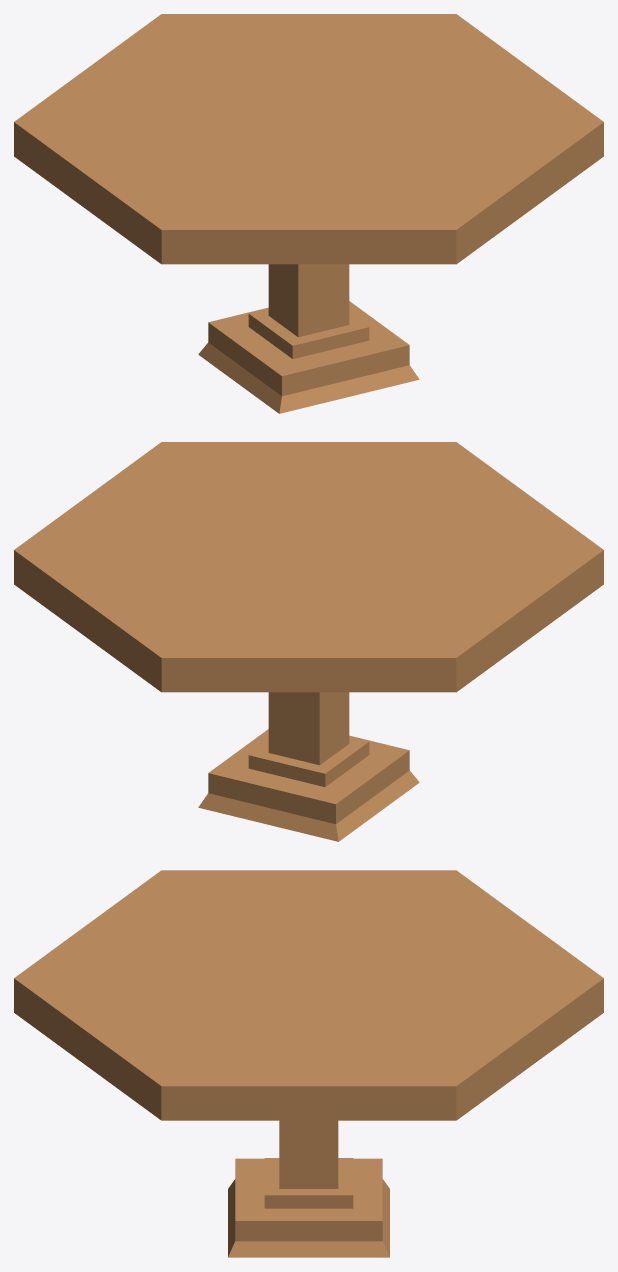
File: kitTableRound.glb
3 views of the same model, one above another, from view 1: azimuth 30°, elevation 25°; view 2: azimuth 150°, elevation 25°; view 3: azimuth 270°, elevation 25° (orthographic).
Parts seen in each view (by area): view 1: kitTableRound_wood; view 2: kitTableRound_wood; view 3: kitTableRound_wood.
Part boxes in pixels (x1=…): kitTableRound_wood: x1=14, y1=14, x2=603, y2=413; kitTableRound_wood: x1=14, y1=442, x2=603, y2=841; kitTableRound_wood: x1=14, y1=870, x2=603, y2=1257.
Bounding box in the file's own units: 1.39 × 0.7335 × 1.6.
